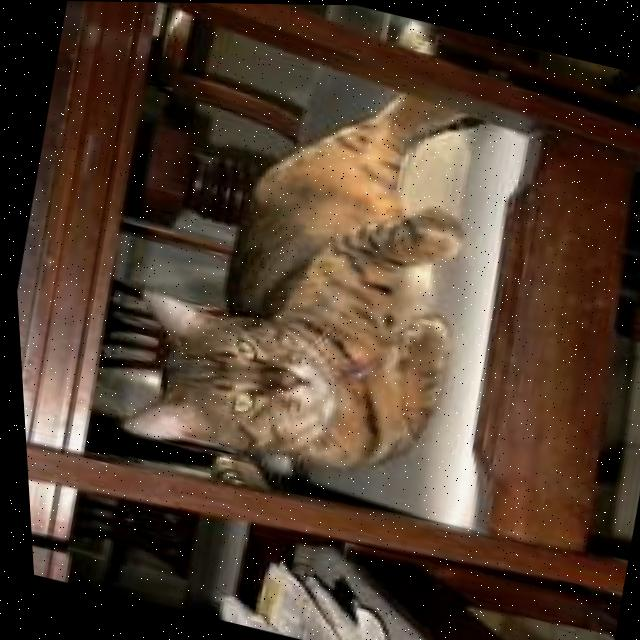Bengal: (78, 1, 535, 503)
